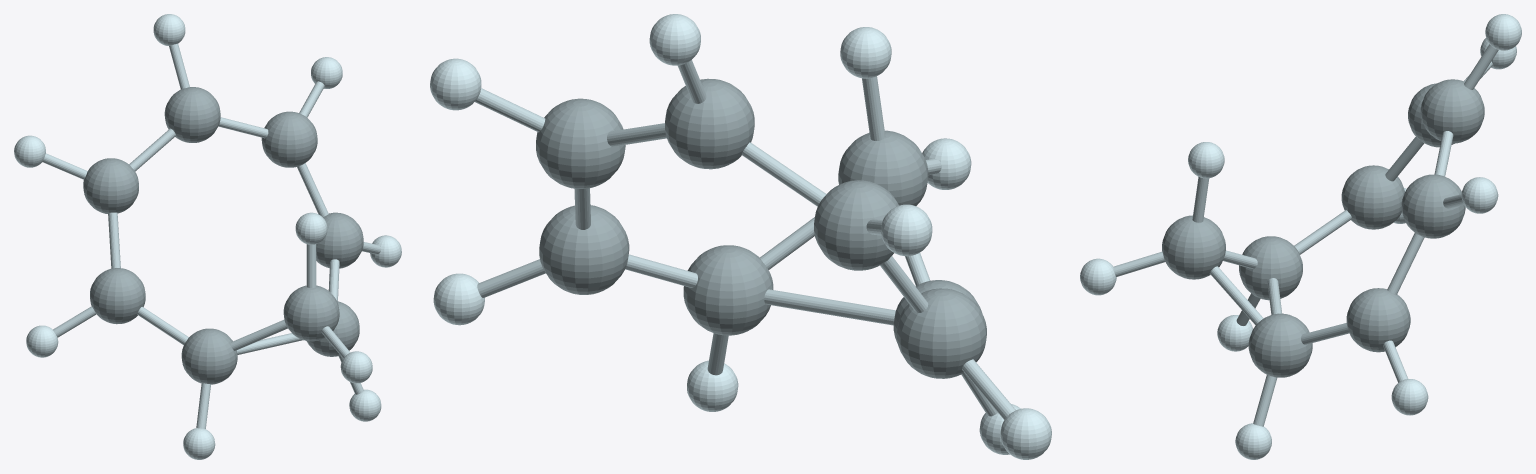
Rendered from irc_step_003.glb.
3 views of the same model, side by side, from view 1: azimuth 30°, elevation 25°; view 2: azimuth 150°, elevation 25°; view 3: azimuth 270°, elevation 25° (orthographic). The views are drawn at different scales.
Visible parts, largest first — view 1: Renderer Node; view 2: Renderer Node; view 3: Renderer Node.
Part boxes in pixels (x1,y1,x2,y2): Renderer Node: (14, 14, 401, 459); Renderer Node: (430, 14, 1051, 459); Renderer Node: (1080, 14, 1521, 459).
Bounding box in the file's own units: 5.39 × 4.74 × 4.81.
